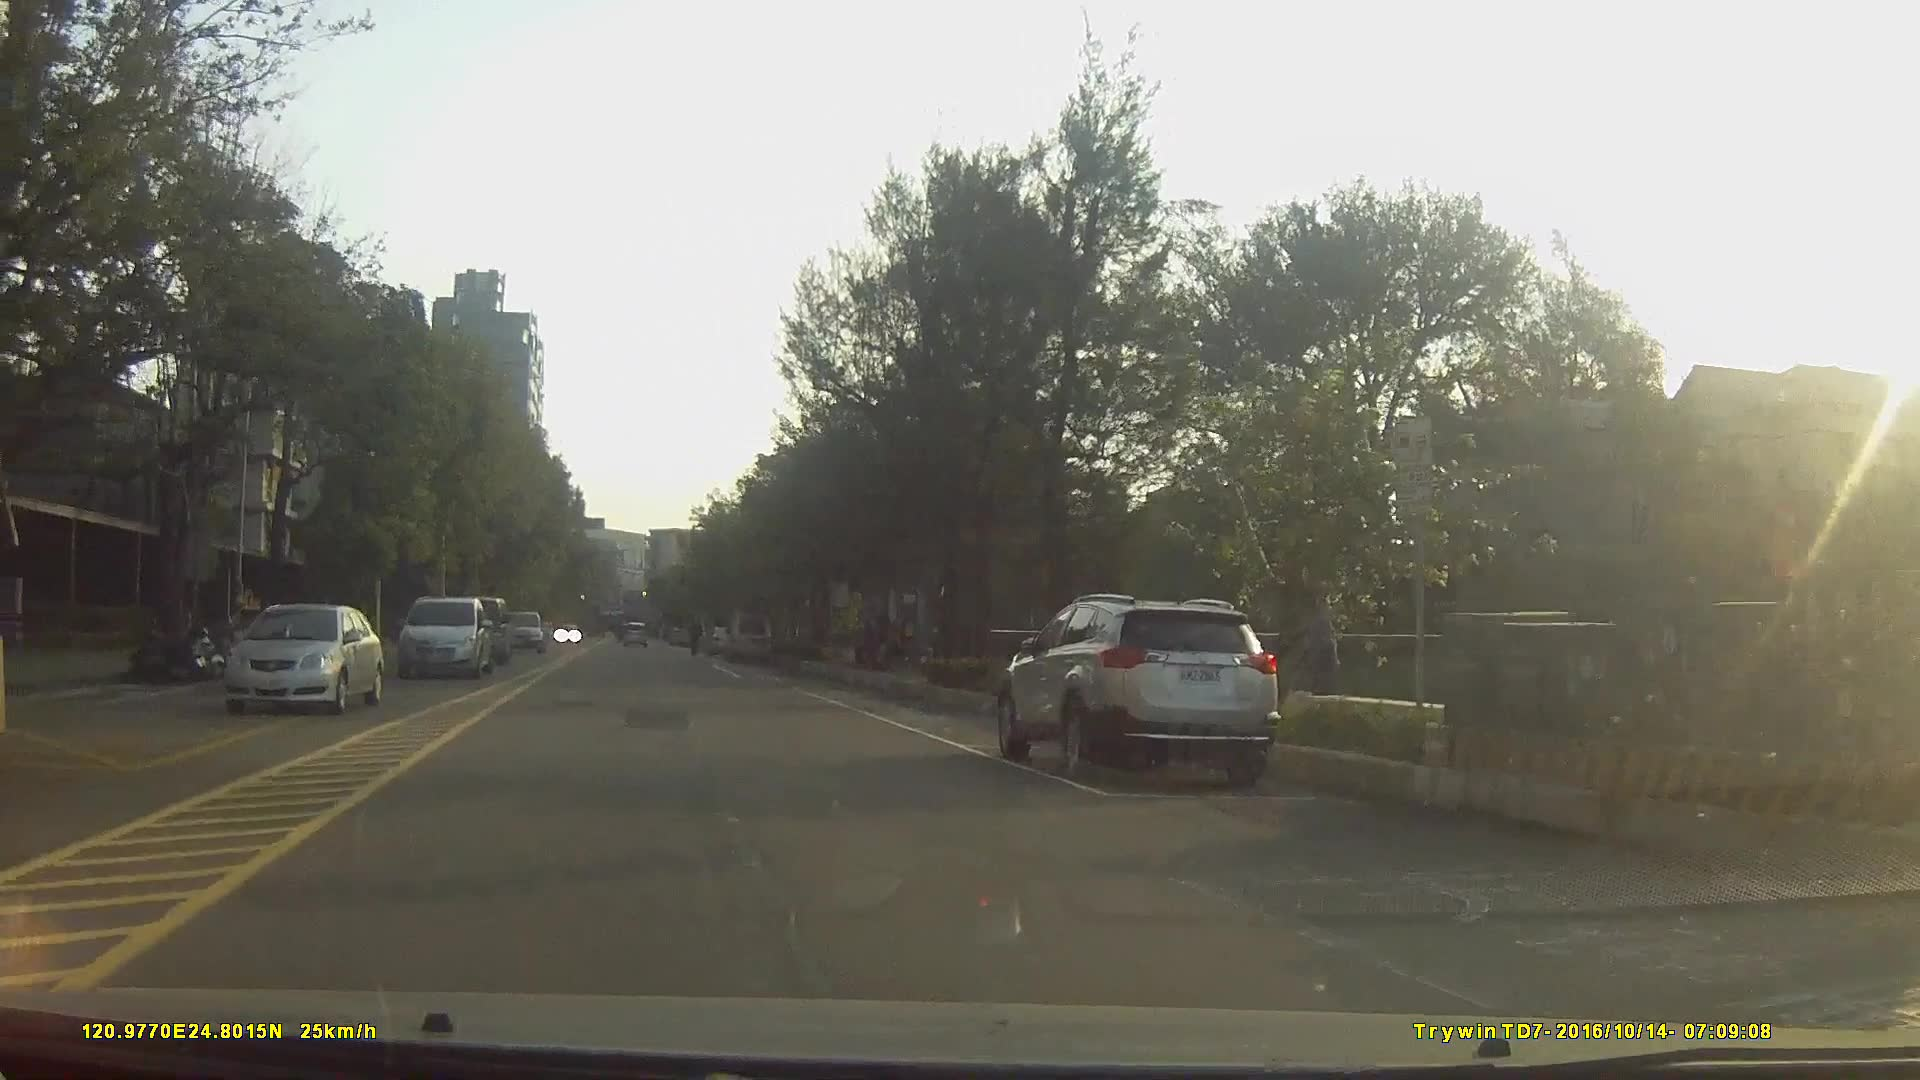vehicle: (1000, 595, 1279, 795), (222, 604, 384, 713), (400, 597, 493, 680), (721, 611, 774, 665), (498, 611, 546, 650), (703, 622, 738, 657), (620, 618, 649, 649)
